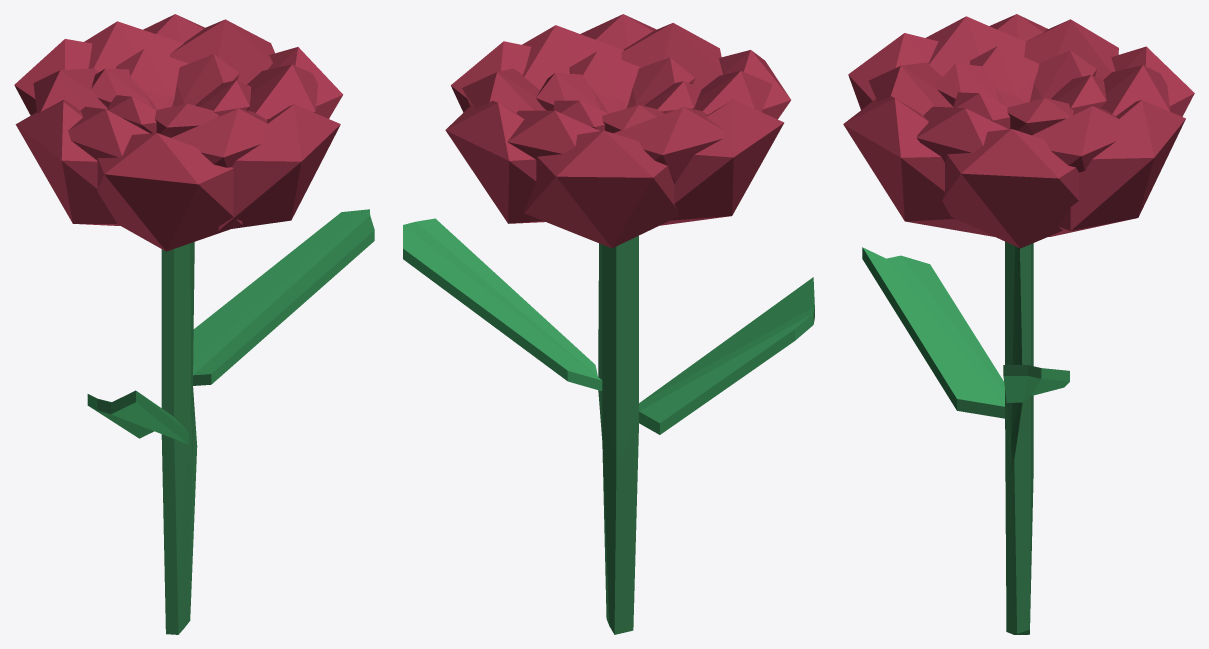
Rendered from Rose_Flower.fbx.
3 renders of one model, left to right at view 1: azimuth 30°, elevation 25°; view 2: azimuth 150°, elevation 25°; view 3: azimuth 270°, elevation 25°, orthographic.
Visible parts, largest first — view 1: pPlatonic10; view 2: pPlatonic10; view 3: pPlatonic10.
Boxes of the visible parts, <box> form: pPlatonic10: <box>14,14,374,634</box>; pPlatonic10: <box>403,14,814,634</box>; pPlatonic10: <box>843,14,1194,634</box>.
Bounding box in the file's own units: 2.29 × 3.59 × 2.
